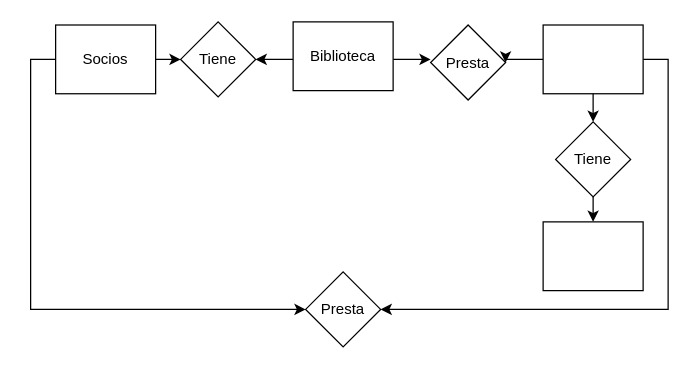
This 700x369 diagram has some shape labels left out. Each missing label, with the box of its shape:
Autor: (542, 221, 643, 291)
LIbros: (542, 24, 643, 94)
